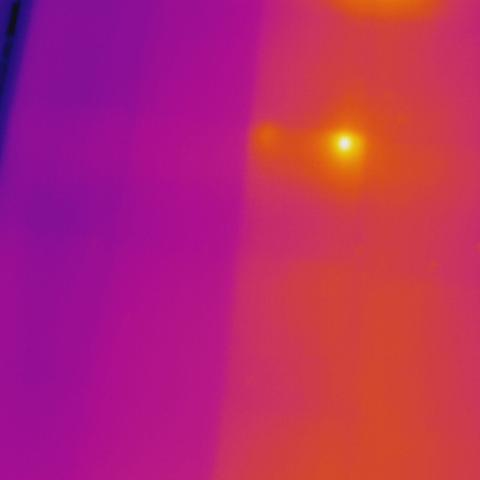fault: (320, 117, 372, 164)
